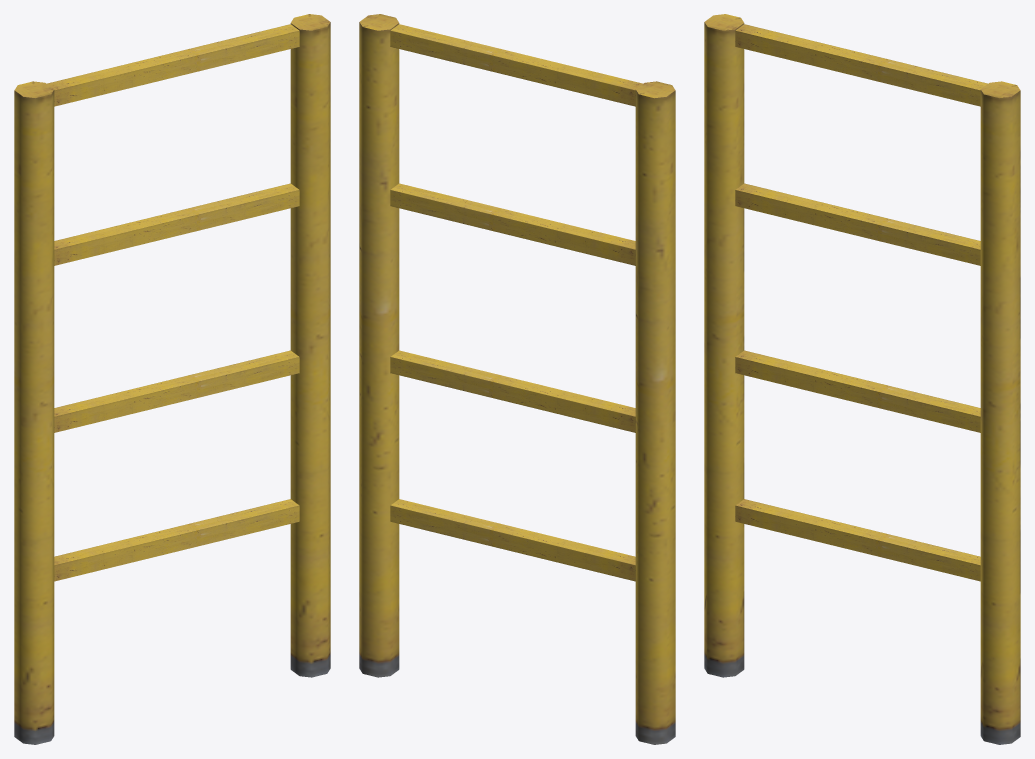
The model's file is Ladder_1m.fbx.
The picture shows the model from 3 angles, left to right: view 1: azimuth 30°, elevation 25°; view 2: azimuth 150°, elevation 25°; view 3: azimuth 330°, elevation 25°; orthographic projection.
Parts seen in each view (by area): view 1: Ladder_1m; view 2: Ladder_1m; view 3: Ladder_1m.
Part boxes in pixels (bbox=[...]): Ladder_1m: bbox=[14, 14, 330, 744]; Ladder_1m: bbox=[359, 14, 675, 744]; Ladder_1m: bbox=[704, 14, 1020, 744].
Size of the model in its own units: 49.71 by 100 by 5.
